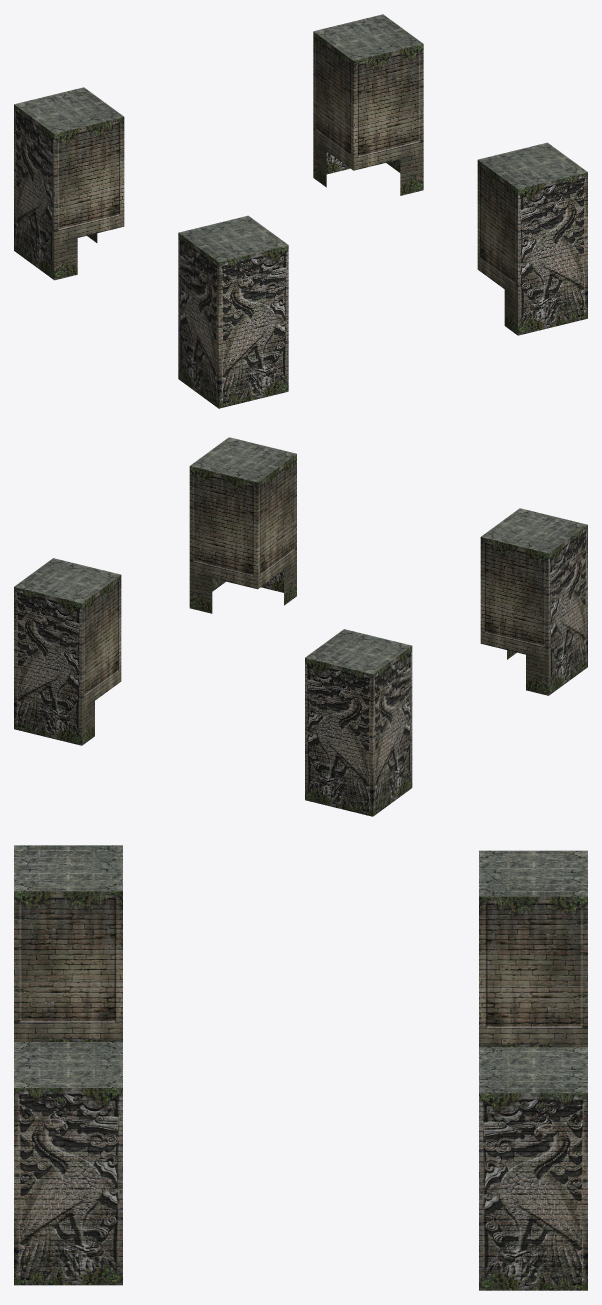
The picture shows the model from 3 angles, top to bottom: view 1: azimuth 30°, elevation 25°; view 2: azimuth 150°, elevation 25°; view 3: azimuth 270°, elevation 25°; orthographic projection. The views are drawn at different scales.
Visible parts, largest first — view 1: Box04; view 2: Box04; view 3: Box04.
Boxes of the visible parts, x1,y1,x2,y2 form: Box04: [14, 14, 587, 408]; Box04: [14, 437, 587, 816]; Box04: [14, 845, 587, 1290].
Size of the model in its own units: 539 by 200 by 527.
